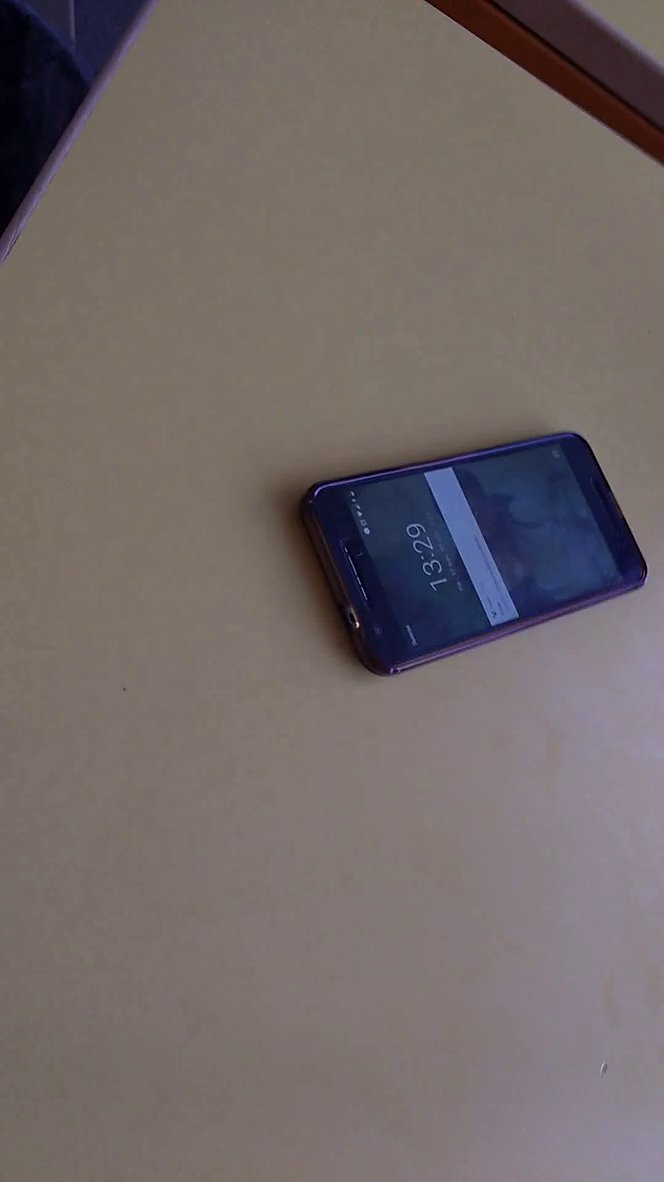phone: (293, 414, 657, 685)
